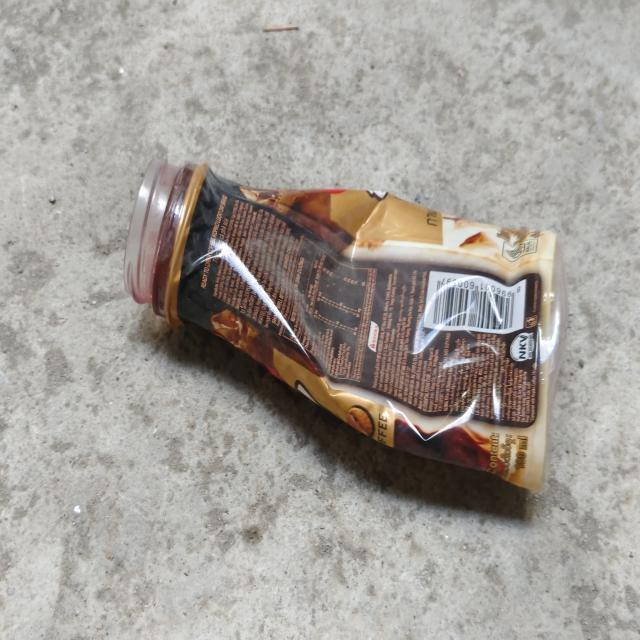Bottle: (124, 160, 567, 491)
